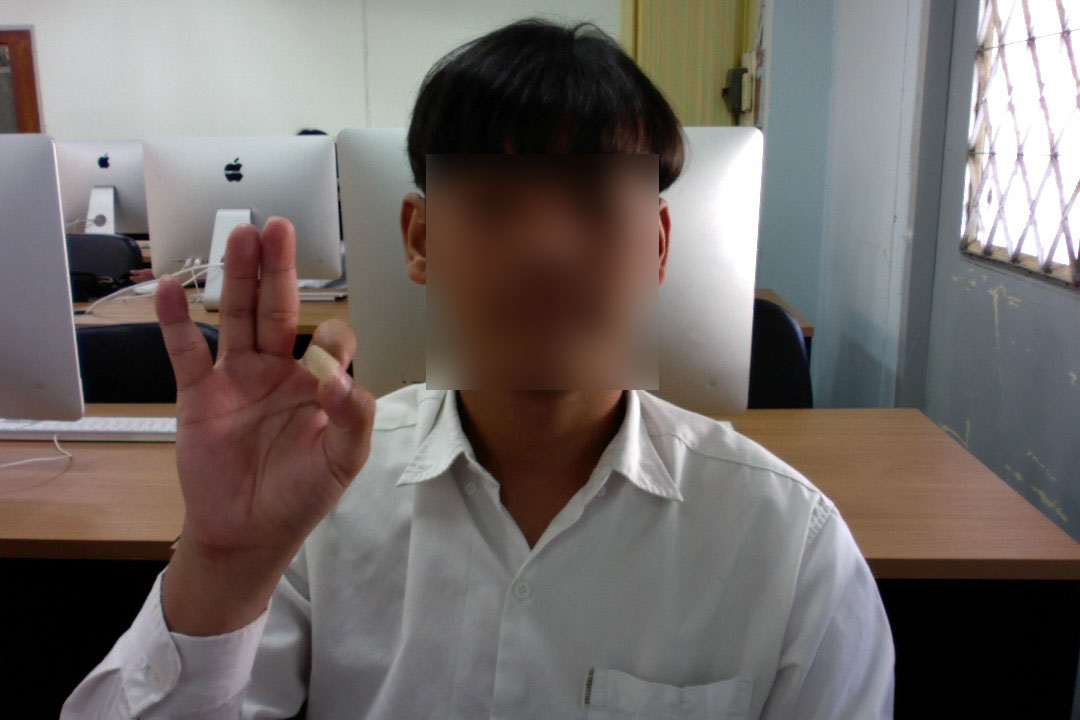for: (131, 210, 381, 595)
